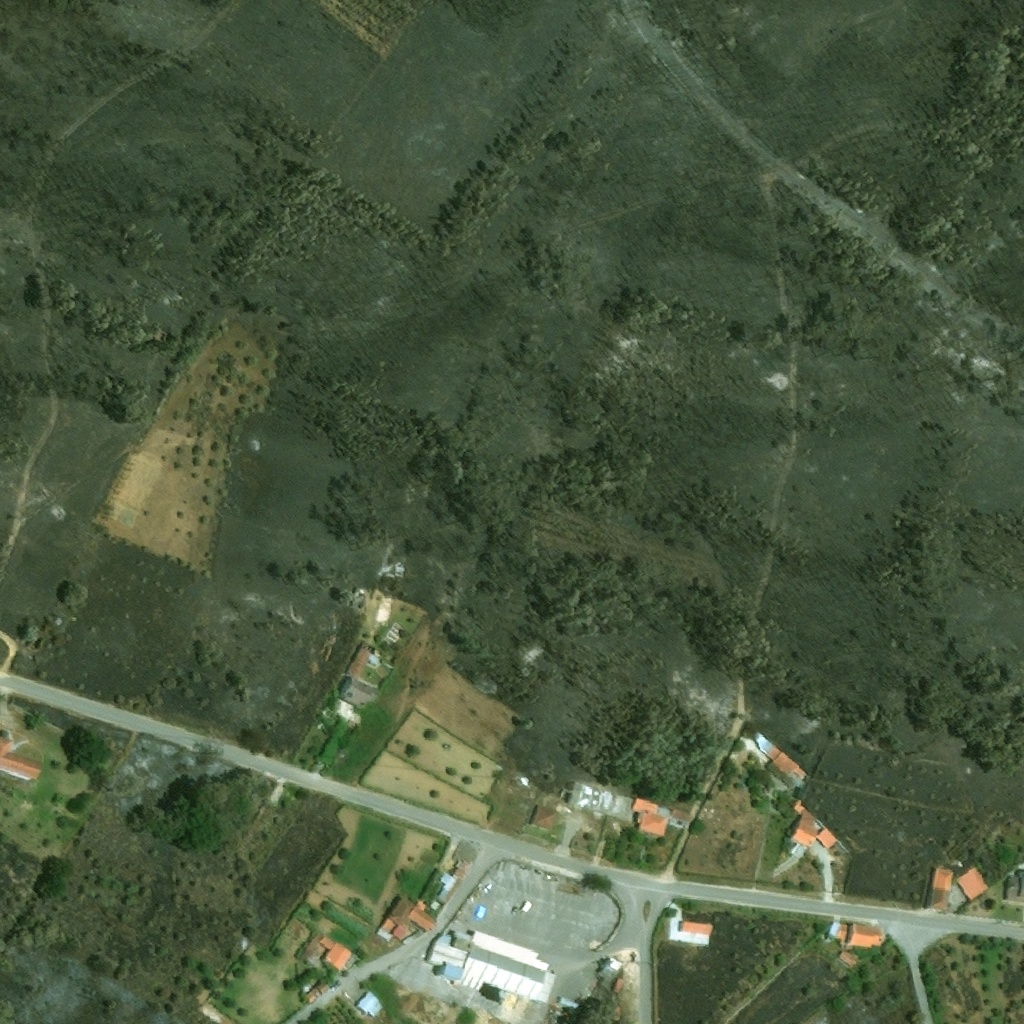0 no-damage: (425, 929, 556, 1004), (738, 727, 808, 787), (374, 895, 437, 945), (0, 737, 43, 782), (788, 799, 824, 849), (827, 922, 884, 950), (632, 796, 670, 837), (337, 676, 379, 712), (954, 865, 991, 902), (344, 645, 383, 680), (319, 935, 353, 972), (328, 698, 366, 729), (929, 868, 953, 910), (354, 990, 386, 1019), (301, 932, 325, 965), (302, 978, 330, 1004), (530, 805, 559, 829), (1003, 870, 1023, 903), (679, 922, 713, 937), (671, 809, 695, 829), (440, 873, 457, 891), (436, 889, 451, 904), (611, 978, 624, 993), (429, 900, 441, 912)
4 un-classified: (972, 901, 989, 914)
